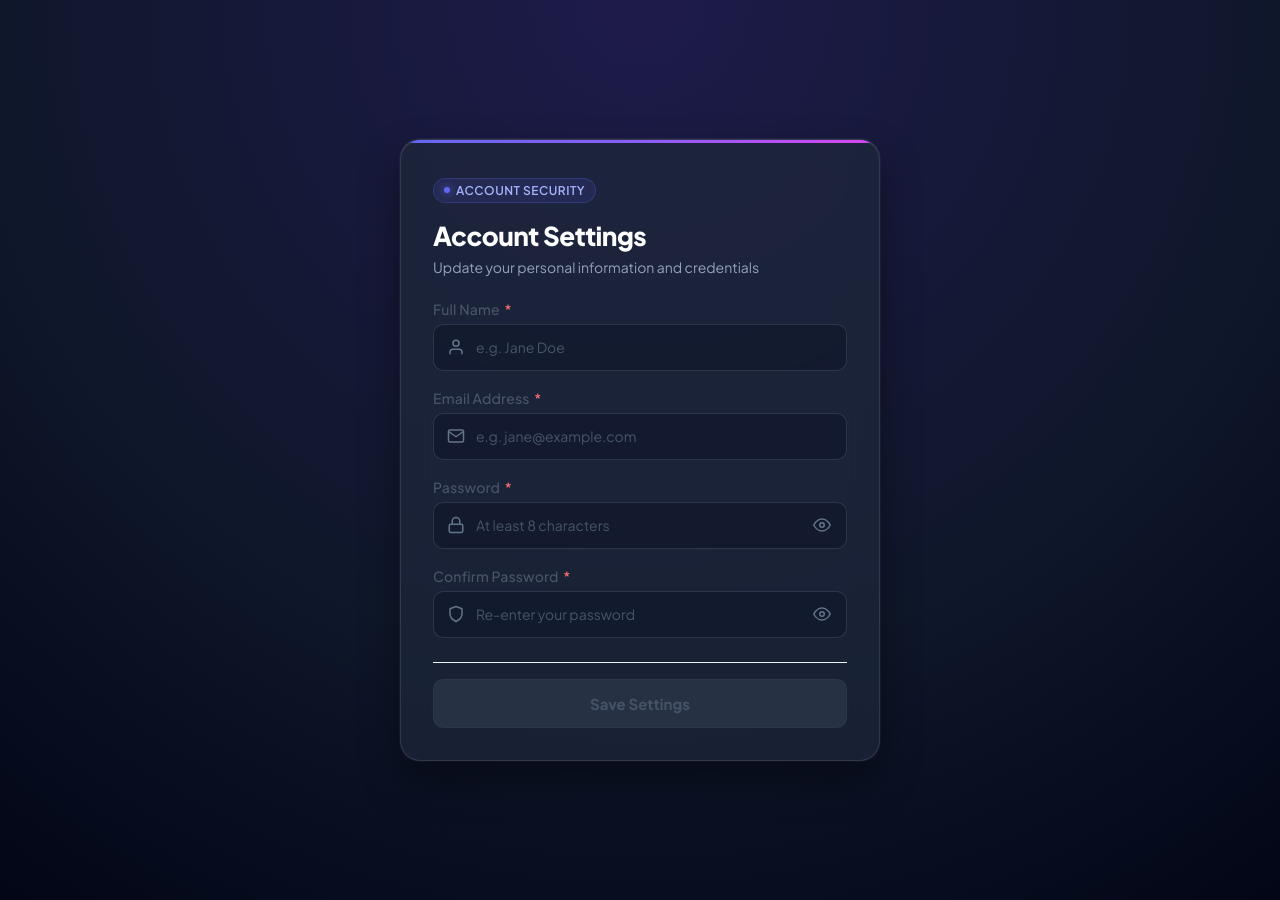
Test: SettingsForm Component › shows confirm password mismatch error
Step 1. Type "password123" into the password field labelled "Password *" → (640, 525), box [433,502,847,549]
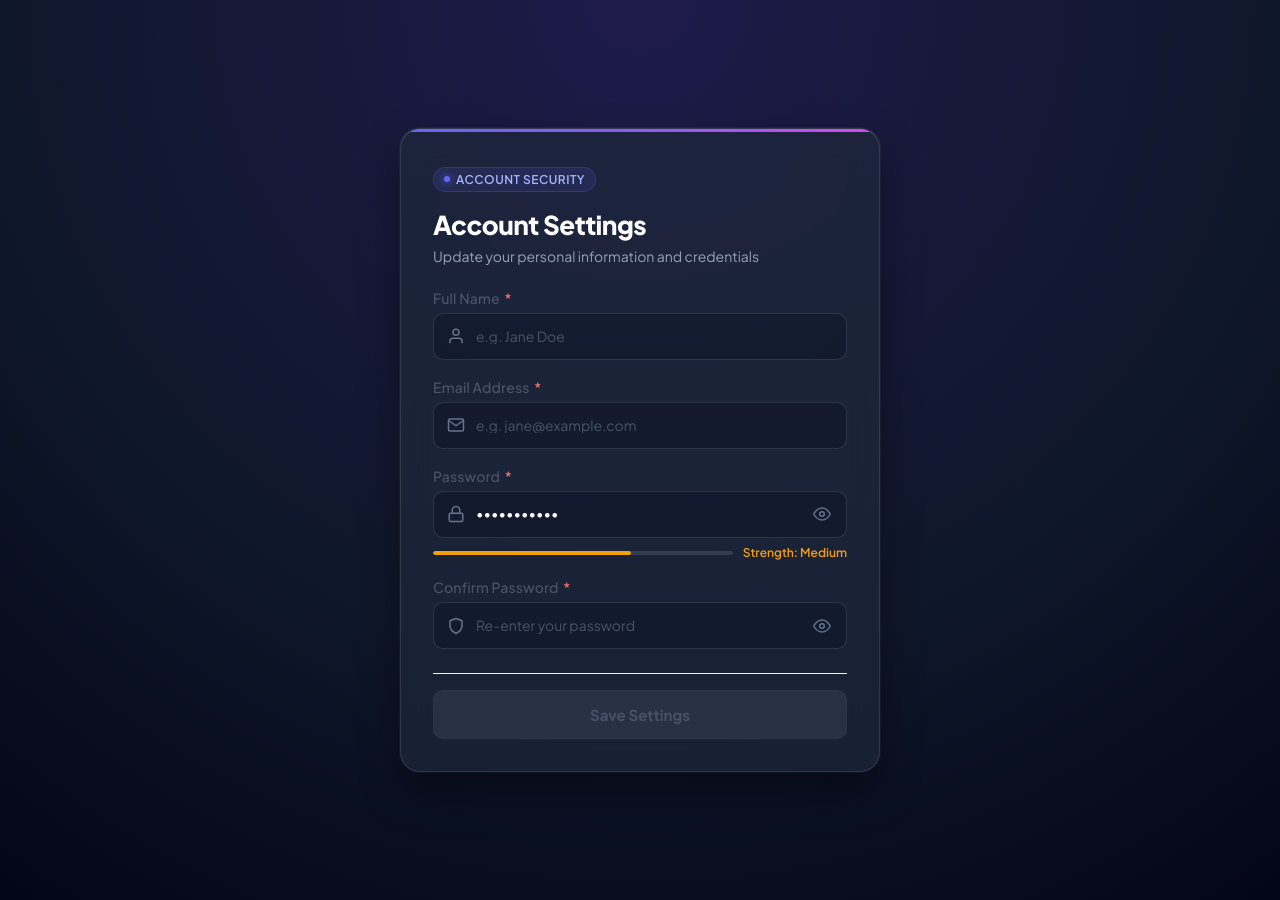
Step 2. Type "different123" into the password field labelled "Confirm Password *" → (640, 626), box [433,602,847,649]
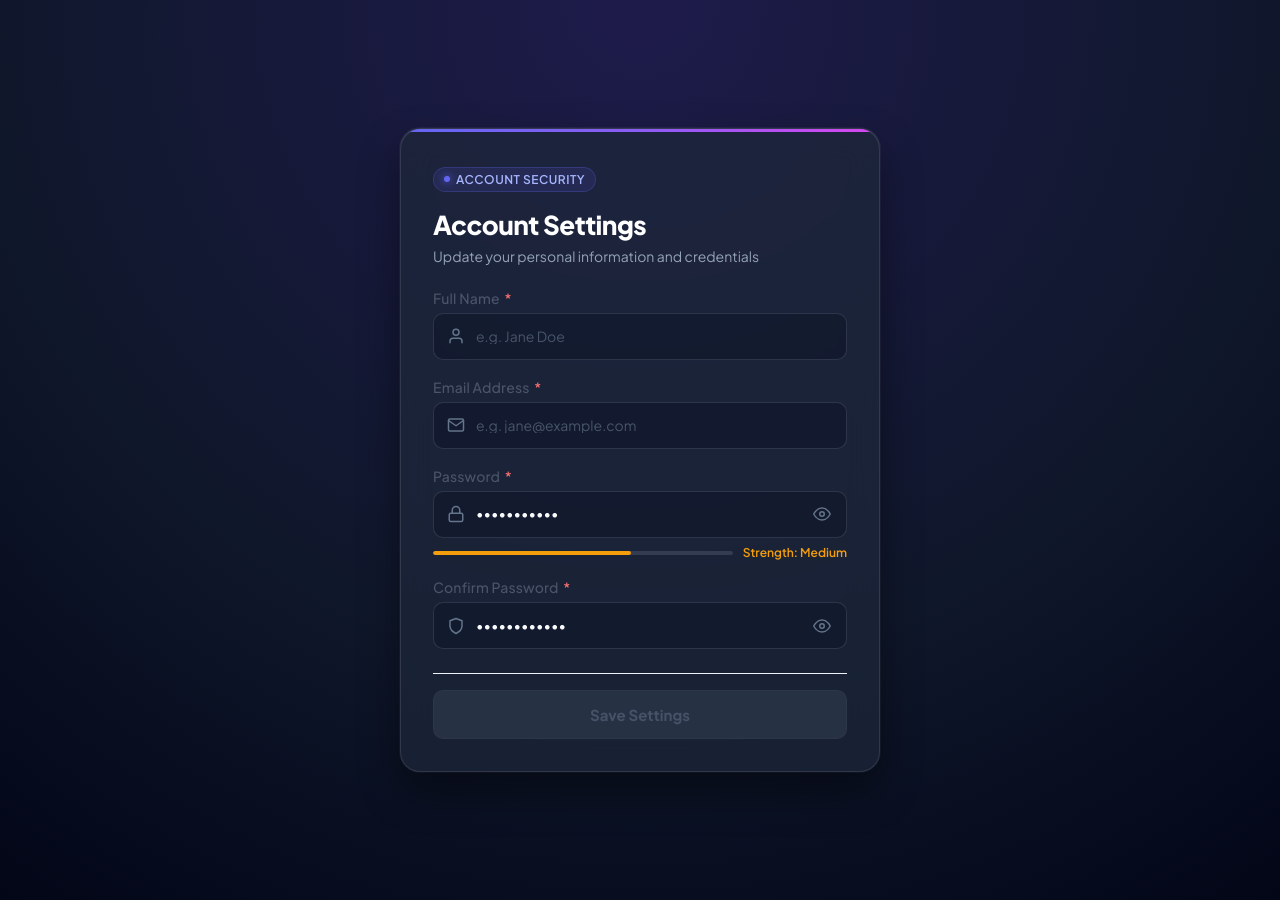
Step 3. Leave the password field labelled "Confirm Password *", box [433,602,847,649]
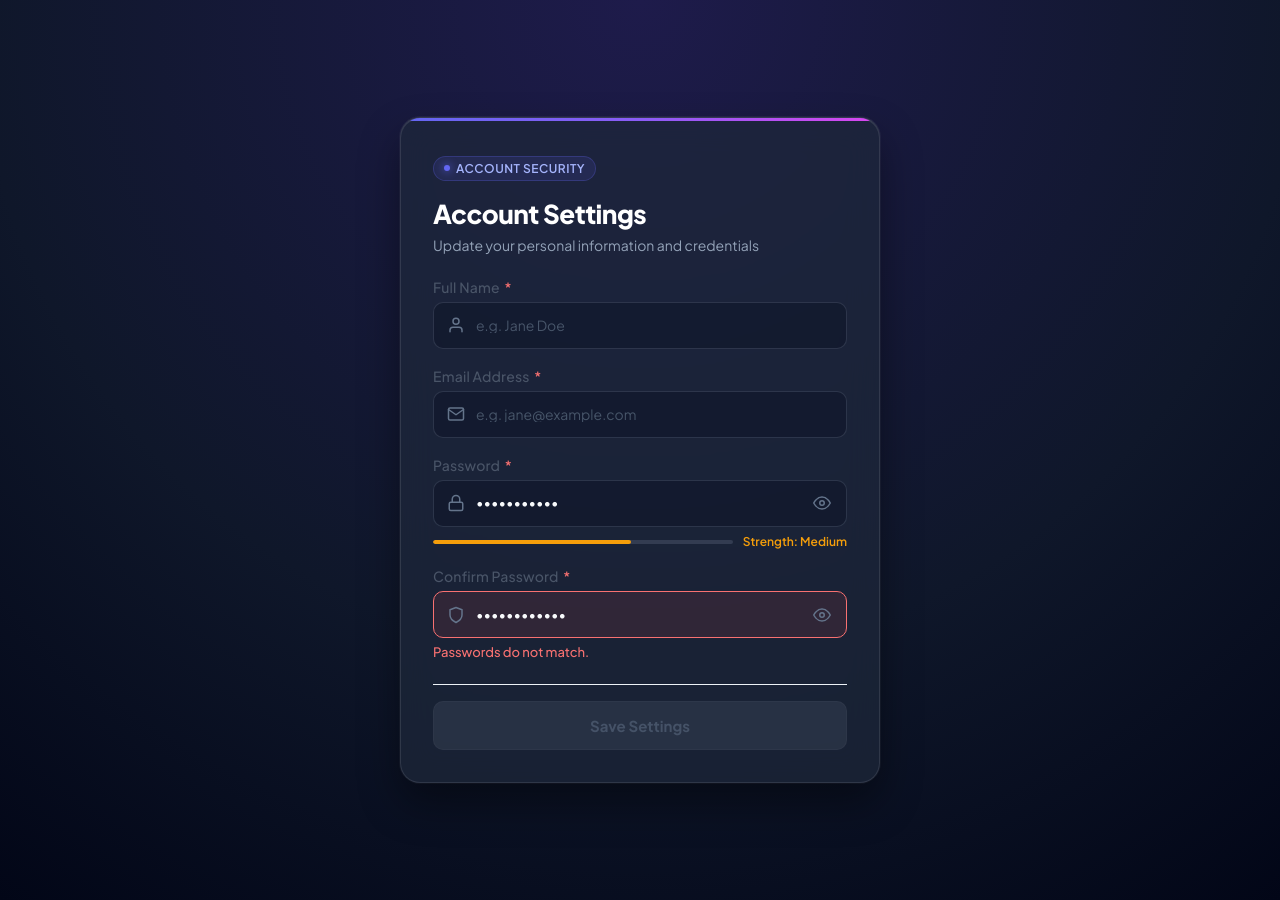
Now the text "Passwords do not match." is shown, box [433,644,589,660]
